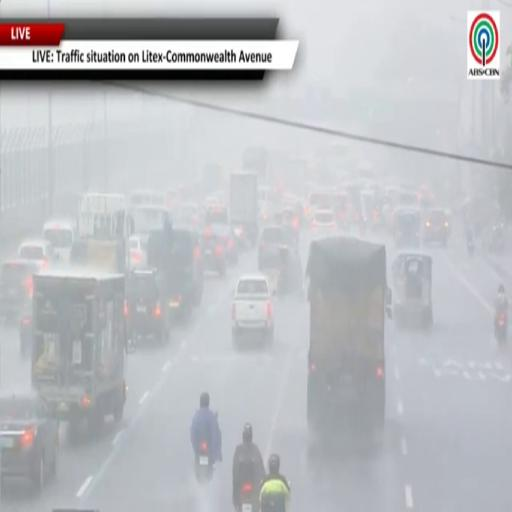car: (0, 391, 59, 490), (148, 224, 203, 318), (125, 269, 170, 345), (232, 275, 275, 346), (0, 259, 43, 318), (258, 224, 291, 270), (43, 220, 75, 263), (205, 224, 238, 264), (201, 226, 226, 276), (394, 208, 421, 248), (423, 208, 450, 246), (18, 238, 55, 265), (306, 188, 334, 223), (19, 301, 33, 359), (280, 207, 300, 246), (173, 203, 200, 228), (312, 210, 338, 233), (129, 235, 146, 268), (205, 204, 229, 225)
motorcycle: (195, 441, 213, 483), (238, 484, 258, 511), (494, 310, 508, 344), (467, 238, 475, 257)
truck: (306, 236, 392, 444), (32, 269, 130, 437), (71, 194, 133, 273), (230, 171, 258, 247), (242, 147, 269, 183), (203, 163, 224, 195)
